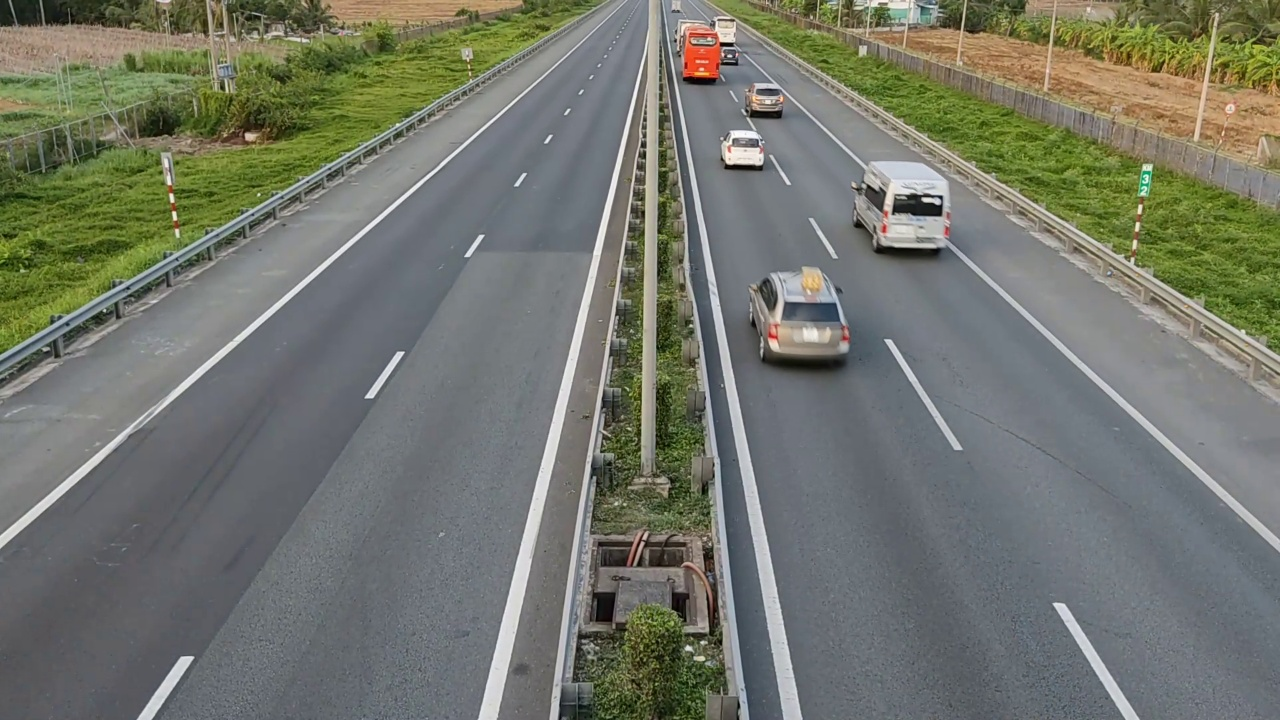car: (747, 267, 851, 368), (850, 159, 952, 254), (719, 129, 766, 169), (743, 83, 787, 117)
truck: (713, 16, 740, 63)
